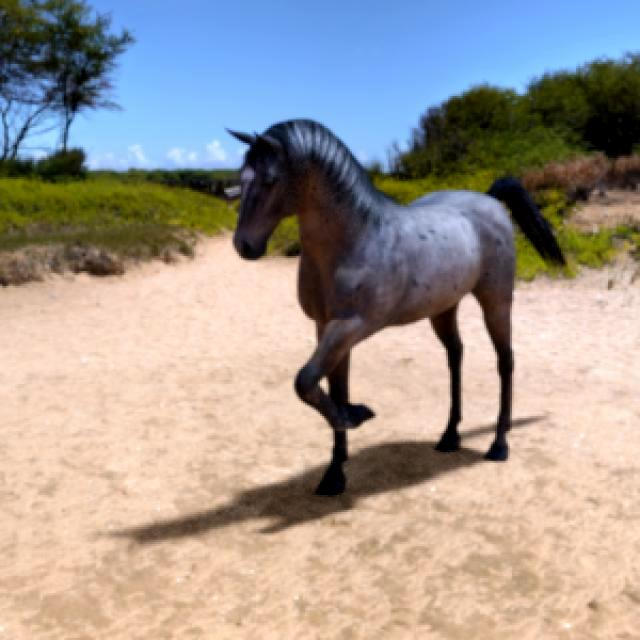horse: (232, 120, 564, 494)
